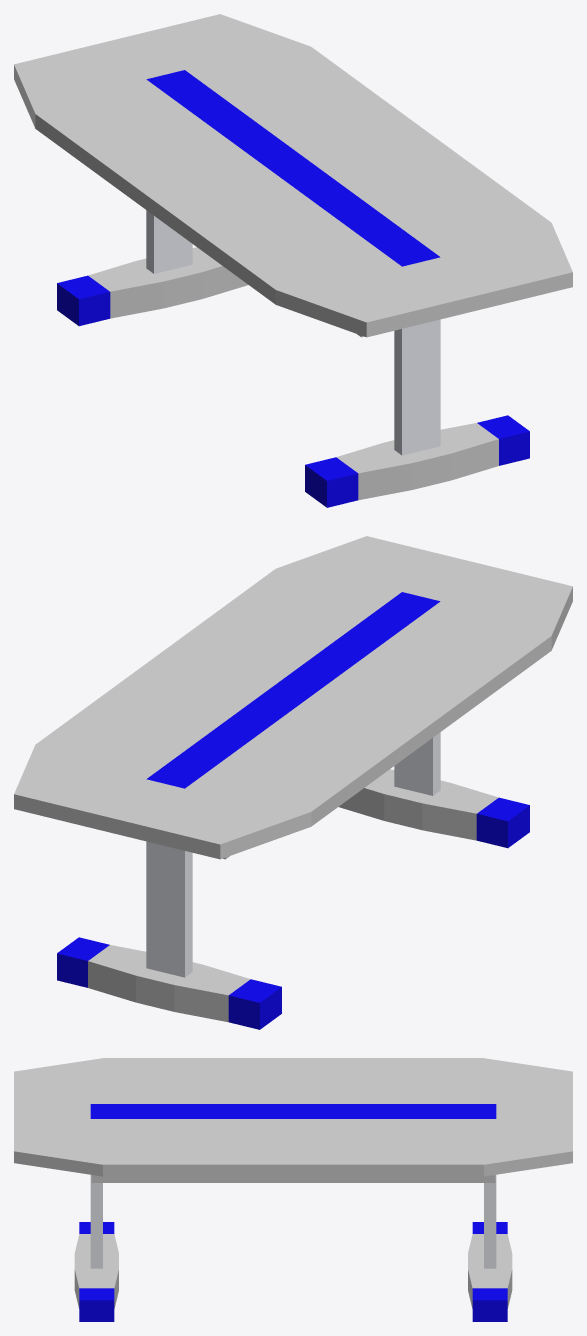
The model's file is escritorioprototipo.fbx.
3 views of the same model, one above another, from view 1: azimuth 30°, elevation 25°; view 2: azimuth 150°, elevation 25°; view 3: azimuth 270°, elevation 25° (orthographic). The views are drawn at different scales.
Visible parts, largest first — view 1: Cube; view 2: Cube; view 3: Cube.
Boxes of the visible parts, x1,y1,x2,y2 form: Cube: (14,14,572,507); Cube: (14,536,572,1029); Cube: (14,1058,572,1321).
Bounding box in the file's own units: 406 × 304 × 899.
